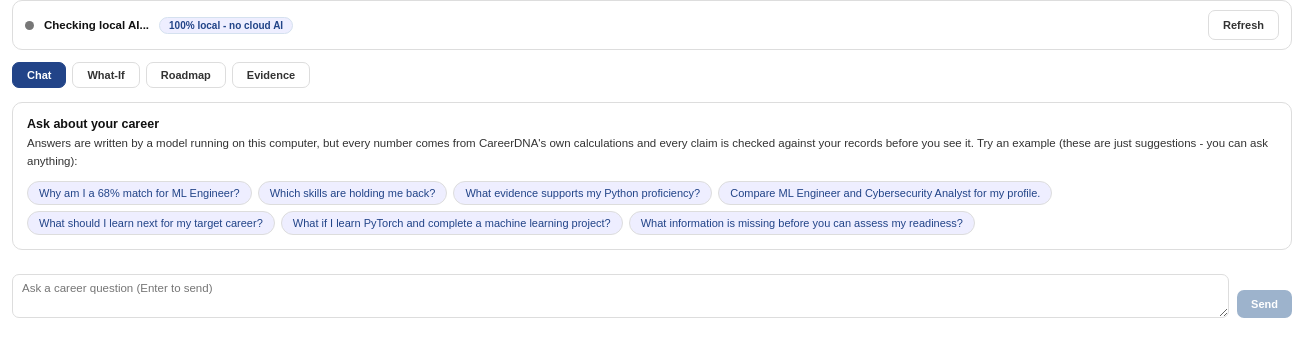
Test case: retrieval diagnostics › shows hybrid only when hybrid really ran
Click the button "Which skills are holding me back?" at (353, 193), box [258, 181, 447, 205]
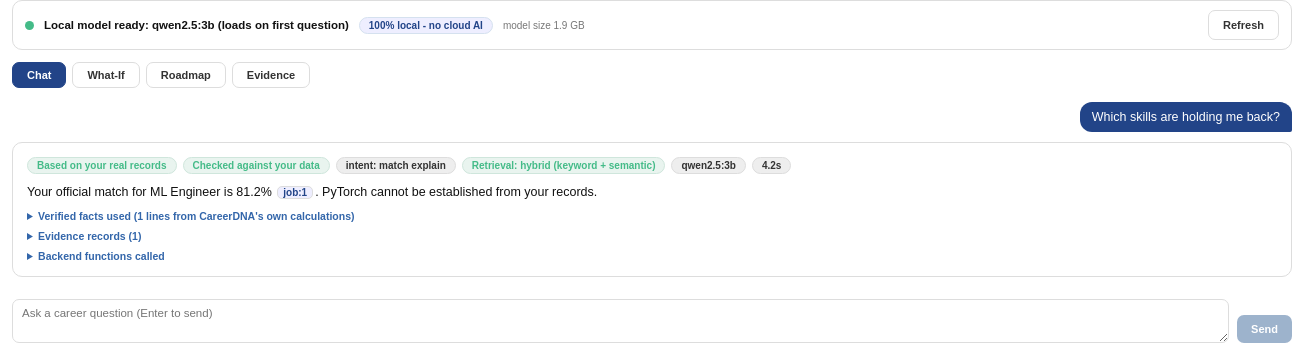
Check: the text "Retrieval: hybrid (keyword + semantic)" is shown, box [462, 157, 666, 174]
